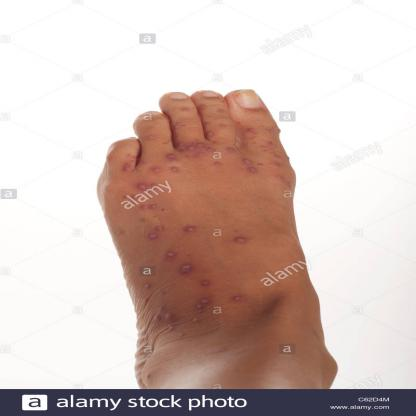Fire ant: (164, 120, 235, 160), (244, 120, 285, 145), (149, 308, 184, 337), (137, 282, 174, 306), (189, 295, 214, 326), (139, 221, 173, 242), (118, 151, 142, 175), (178, 102, 226, 114), (271, 172, 291, 196), (148, 164, 184, 177), (136, 200, 169, 214), (238, 156, 258, 179), (270, 152, 292, 169), (176, 260, 198, 276), (135, 180, 155, 194), (231, 235, 252, 247), (137, 131, 157, 143), (184, 222, 200, 235), (160, 250, 182, 259), (193, 277, 214, 286), (230, 293, 250, 302), (206, 161, 226, 169)
